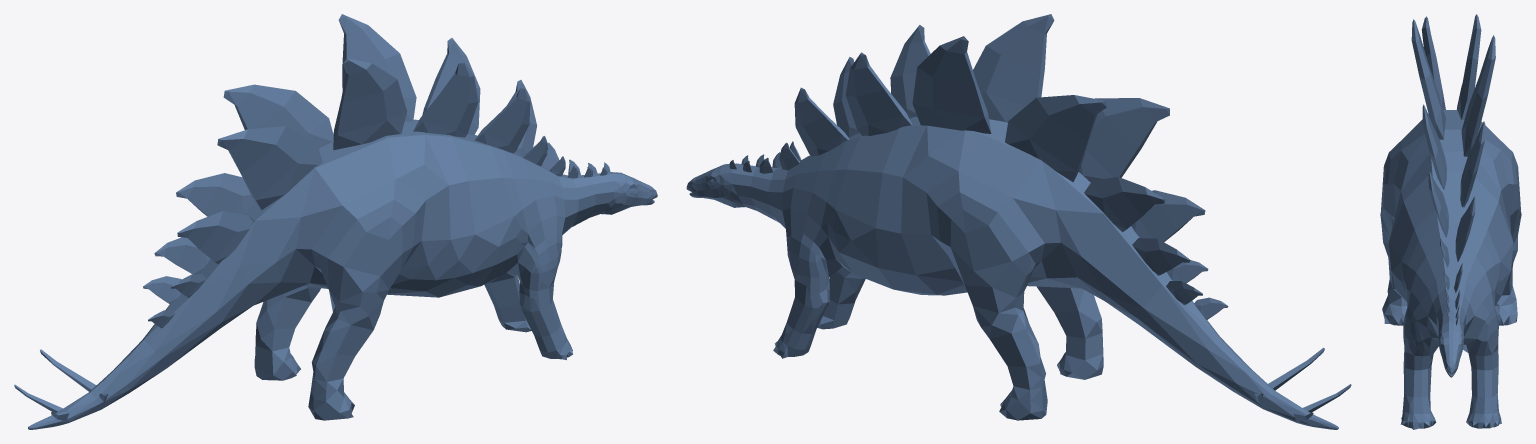
Rendered from stegosaurous.glb.
3 views of the same model, side by side, from view 1: azimuth 30°, elevation 25°; view 2: azimuth 150°, elevation 25°; view 3: azimuth 270°, elevation 25° (orthographic). The views are drawn at different scales.
Parts seen in each view (by area): view 1: Stegosaurus_; view 2: Stegosaurus_; view 3: Stegosaurus_.
Boxes of the visible parts, left/top/right/bottom form: Stegosaurus_: left=14, top=14, right=657, bottom=429; Stegosaurus_: left=686, top=14, right=1351, bottom=429; Stegosaurus_: left=1380, top=14, right=1521, bottom=429.
Bounding box in the file's own units: 15.43 × 8.23 × 3.34.
